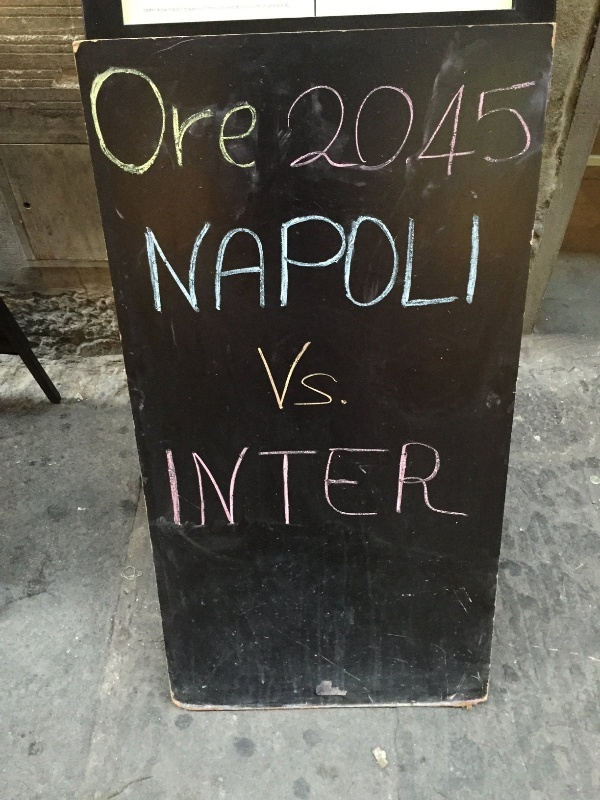text: (465, 205, 481, 322), (97, 55, 112, 177), (113, 55, 128, 177), (129, 55, 144, 177), (145, 55, 160, 177), (161, 55, 176, 177), (177, 55, 192, 177), (193, 55, 208, 177), (209, 55, 224, 177), (225, 55, 240, 177), (241, 55, 256, 177), (145, 205, 160, 322), (161, 205, 176, 322), (177, 205, 192, 322), (193, 205, 208, 322), (209, 205, 224, 322), (225, 205, 240, 322), (241, 205, 256, 322), (257, 205, 272, 322), (273, 205, 288, 322), (289, 205, 304, 322), (305, 205, 320, 322), (321, 205, 336, 322), (337, 205, 352, 322), (353, 205, 368, 322), (369, 205, 384, 322), (385, 205, 400, 322), (401, 205, 416, 322), (417, 205, 432, 322), (433, 205, 448, 322), (449, 205, 464, 322), (289, 79, 304, 180), (305, 79, 320, 180), (321, 79, 336, 180), (337, 79, 352, 180), (353, 79, 368, 180), (369, 79, 384, 180), (385, 79, 400, 180), (401, 79, 416, 180), (417, 79, 432, 180), (433, 79, 448, 180), (449, 79, 464, 180), (465, 79, 480, 180), (481, 79, 496, 180), (497, 79, 512, 180), (513, 79, 528, 180), (177, 444, 192, 531), (193, 444, 208, 531), (209, 444, 224, 531), (225, 444, 240, 531), (241, 444, 256, 531), (257, 444, 272, 531), (273, 444, 288, 531), (289, 444, 304, 531), (305, 444, 320, 531), (321, 444, 336, 531), (337, 444, 352, 531), (353, 444, 368, 531), (369, 444, 384, 531), (385, 444, 400, 531), (401, 444, 416, 531), (417, 444, 432, 531), (433, 444, 448, 531), (449, 444, 464, 531), (257, 339, 272, 413), (273, 339, 288, 413), (289, 339, 304, 413), (305, 339, 320, 413), (321, 339, 336, 413), (164, 444, 176, 531), (529, 79, 538, 180), (337, 339, 347, 413), (465, 444, 472, 531), (92, 55, 96, 177), (257, 55, 259, 177), (143, 205, 144, 322), (255, 339, 256, 413)
